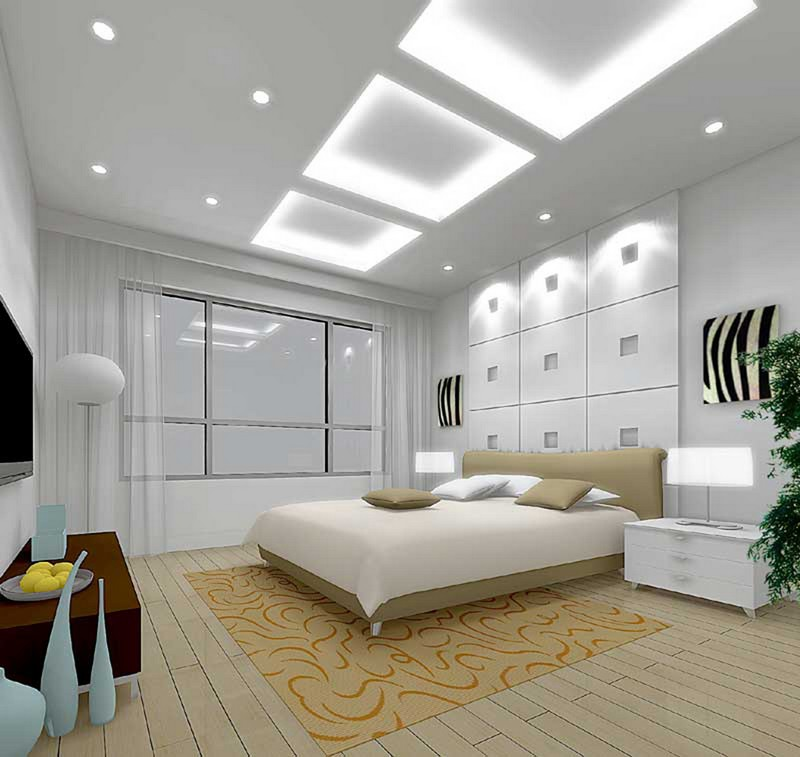bed: (256, 445, 663, 618)
lamp: (49, 353, 124, 541), (664, 442, 756, 527), (407, 445, 457, 494)
stool: (8, 530, 143, 698), (622, 514, 778, 629)
